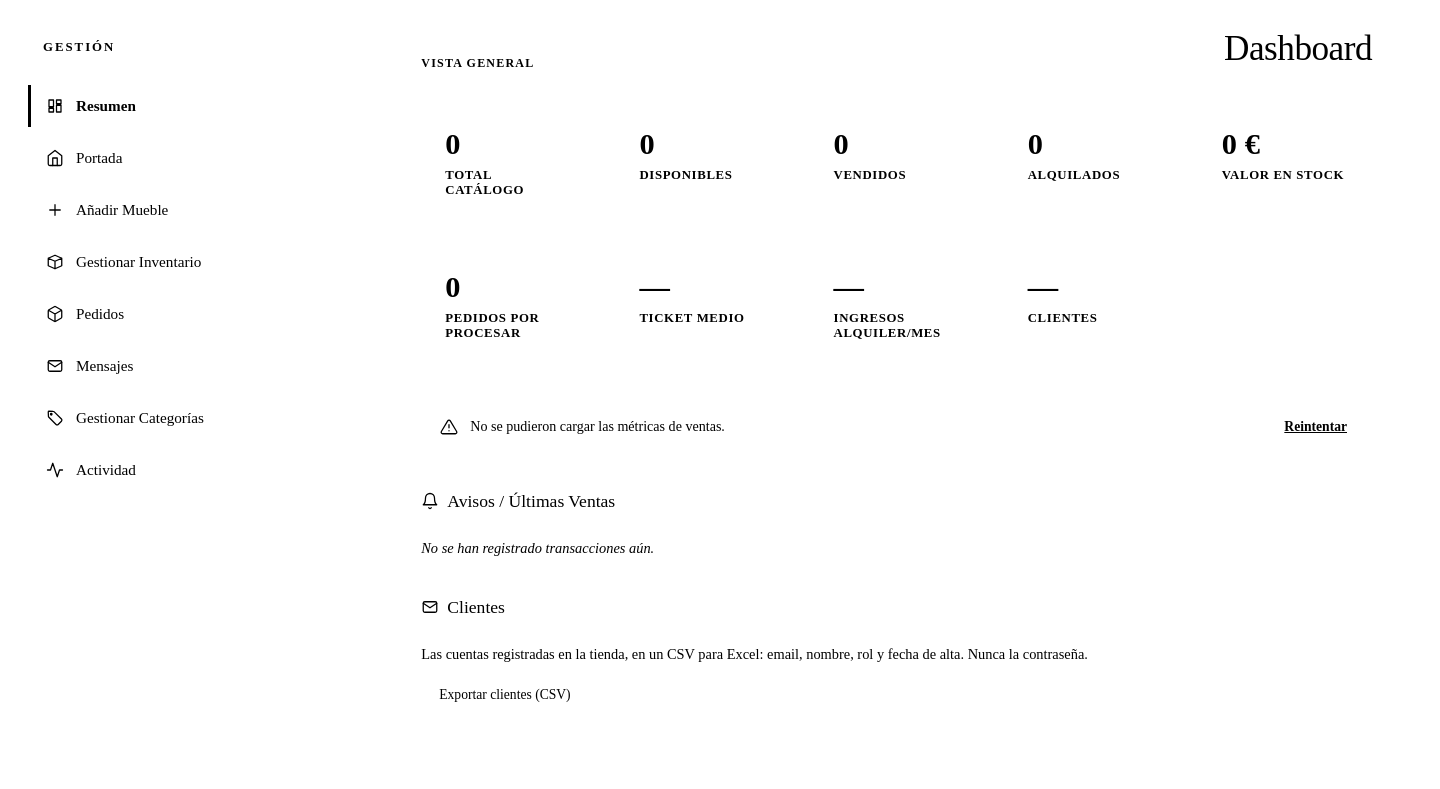
Scenario: Categorías — listado › cada tarjeta enseña sus estadísticas, o "Cargando analíticas..." si no llegaron
Click the button "Gestionar Categorías".
click(185, 418)  # box [28,397,341,439]
(page scrolled)
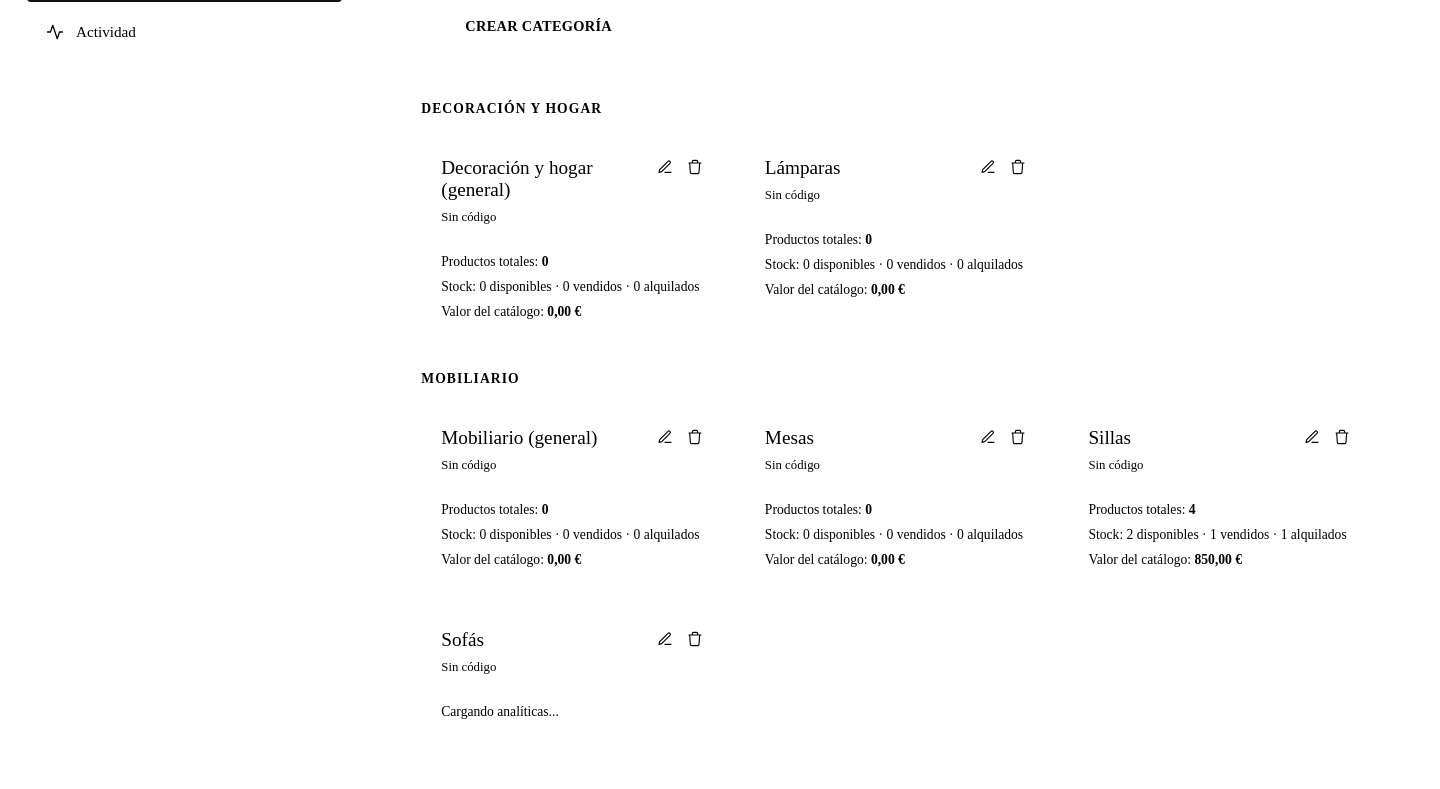
Now the text "Productos totales:" reads "Productos totales: 4", box [1088,502,1196,517]
Now the text "Stock: 2 disponibles · 1 vendidos · 1 alquilados" is shown, box [1088,525,1352,544]
Now the text "850,00 €" is shown, box [1194,552,1242,567]
